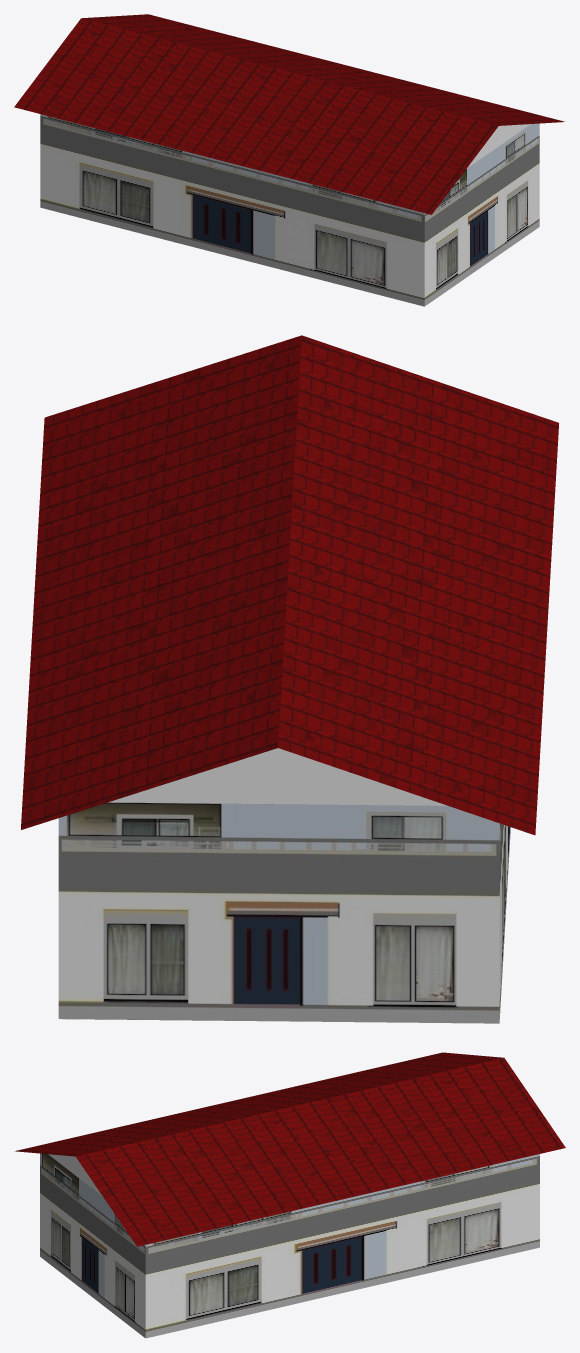
3 renders of one model, top to bottom at view 1: azimuth 30°, elevation 25°; view 2: azimuth 150°, elevation 25°; view 3: azimuth 270°, elevation 25°, orthographic. The views are drawn at different scales.
Parts seen in each view (by area): view 1: CityEngineMaterial_17_m, CityEngineMaterial_7_m, CityEngineMaterial_3_m; view 2: CityEngineMaterial_17_m, CityEngineMaterial_7_m, CityEngineMaterial_3_m; view 3: CityEngineMaterial_17_m, CityEngineMaterial_7_m, CityEngineMaterial_3_m.
Part boxes in pixels (x1,y1,x2,y2): CityEngineMaterial_17_m: (14,14,564,214); CityEngineMaterial_7_m: (40,114,539,306); CityEngineMaterial_3_m: (466,124,530,168); CityEngineMaterial_17_m: (21,335,558,835); CityEngineMaterial_7_m: (58,802,510,1023); CityEngineMaterial_3_m: (109,748,447,805); CityEngineMaterial_17_m: (15,1052,565,1246); CityEngineMaterial_7_m: (40,1153,539,1338); CityEngineMaterial_3_m: (48,1154,102,1196).
Bounding box in the file's own units: 23.47 × 8.16 × 28.17.
